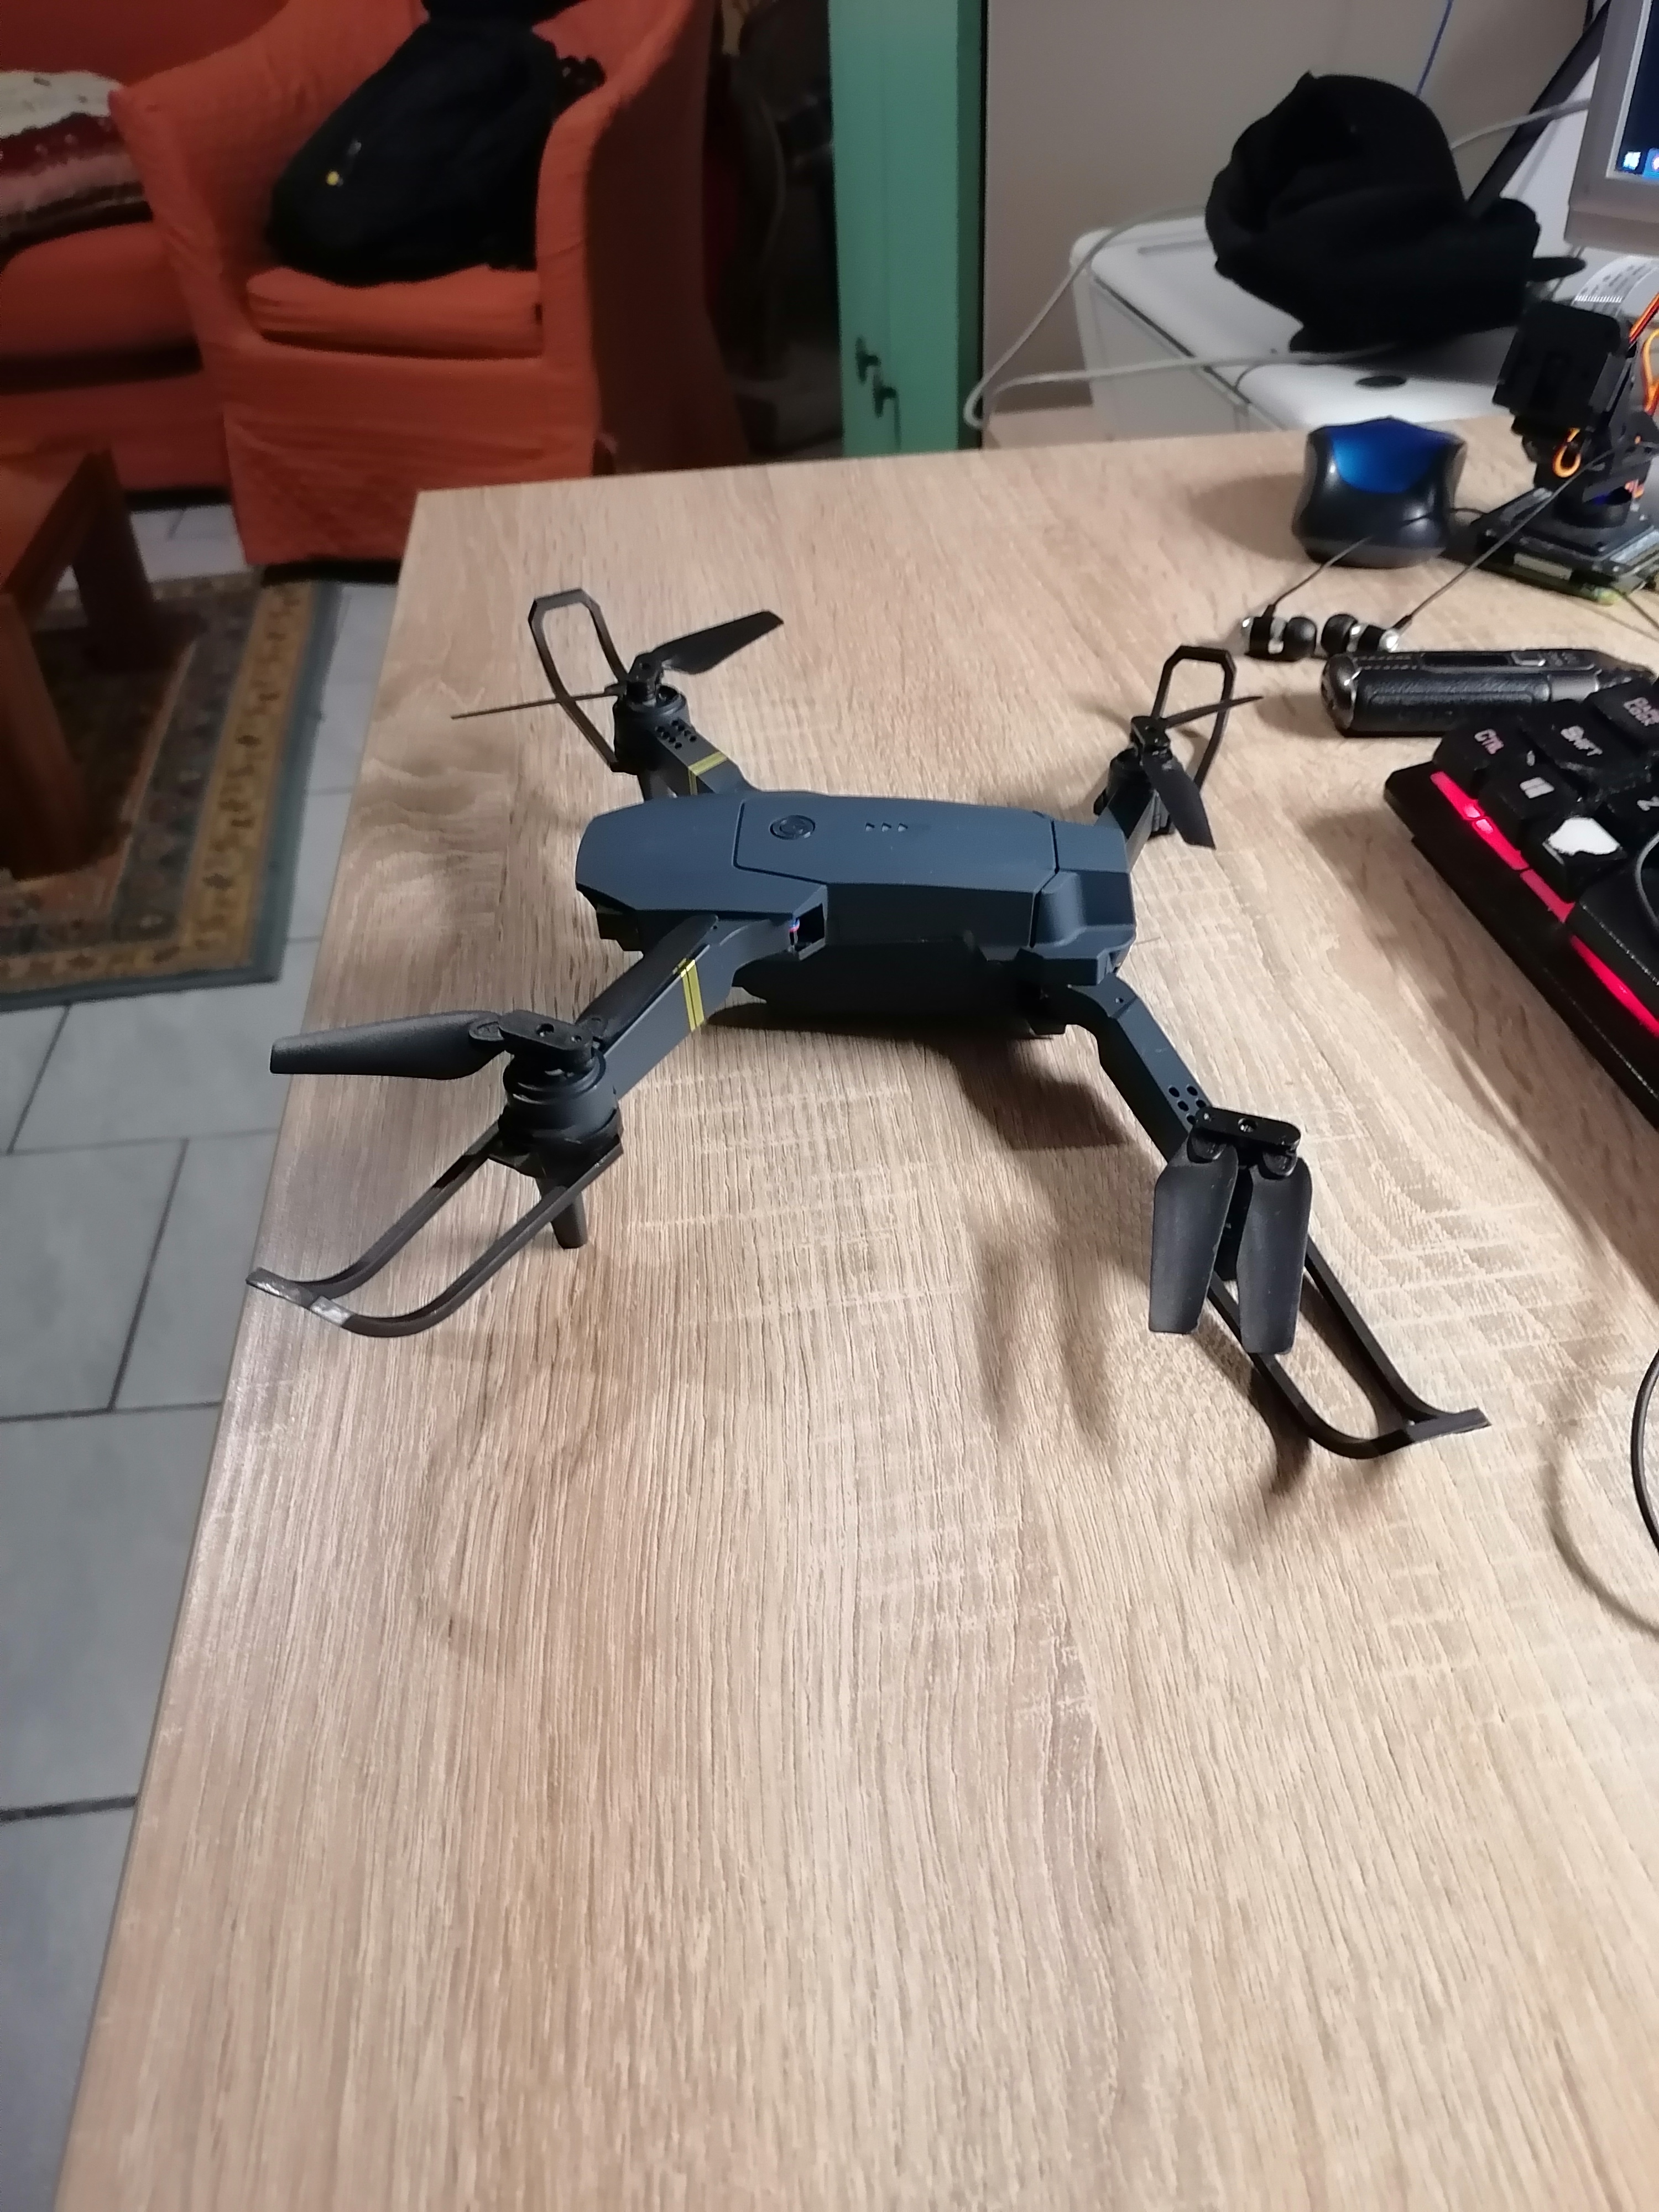drone: (399, 594, 1453, 1507)
